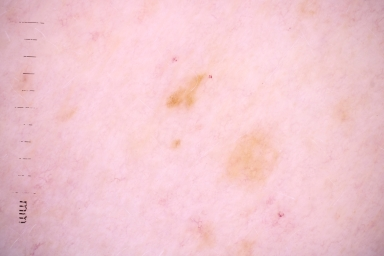melanoma: (226, 135, 278, 181), (168, 73, 203, 107)
